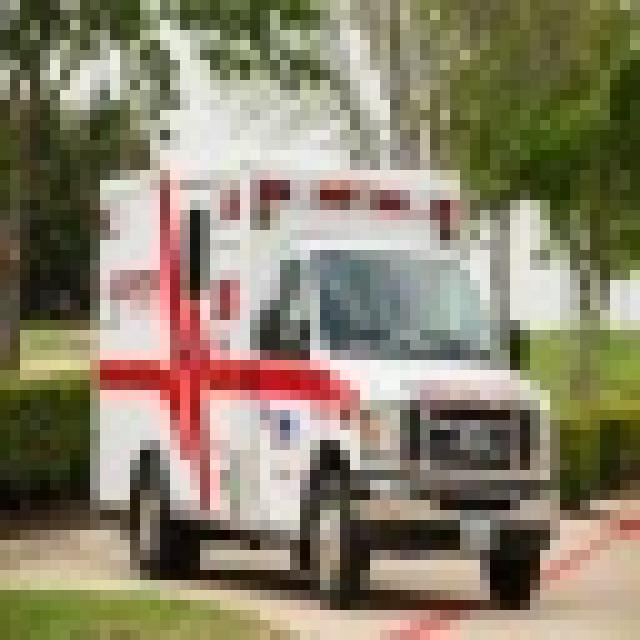Ambulance: (80, 150, 560, 600)
